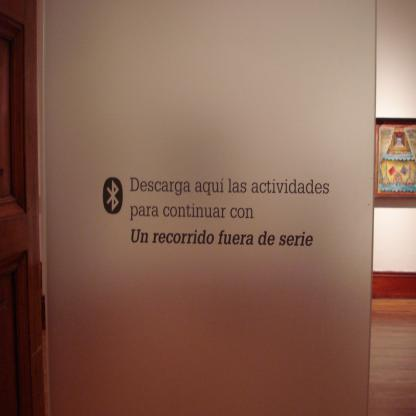door: (0, 0, 46, 415)
